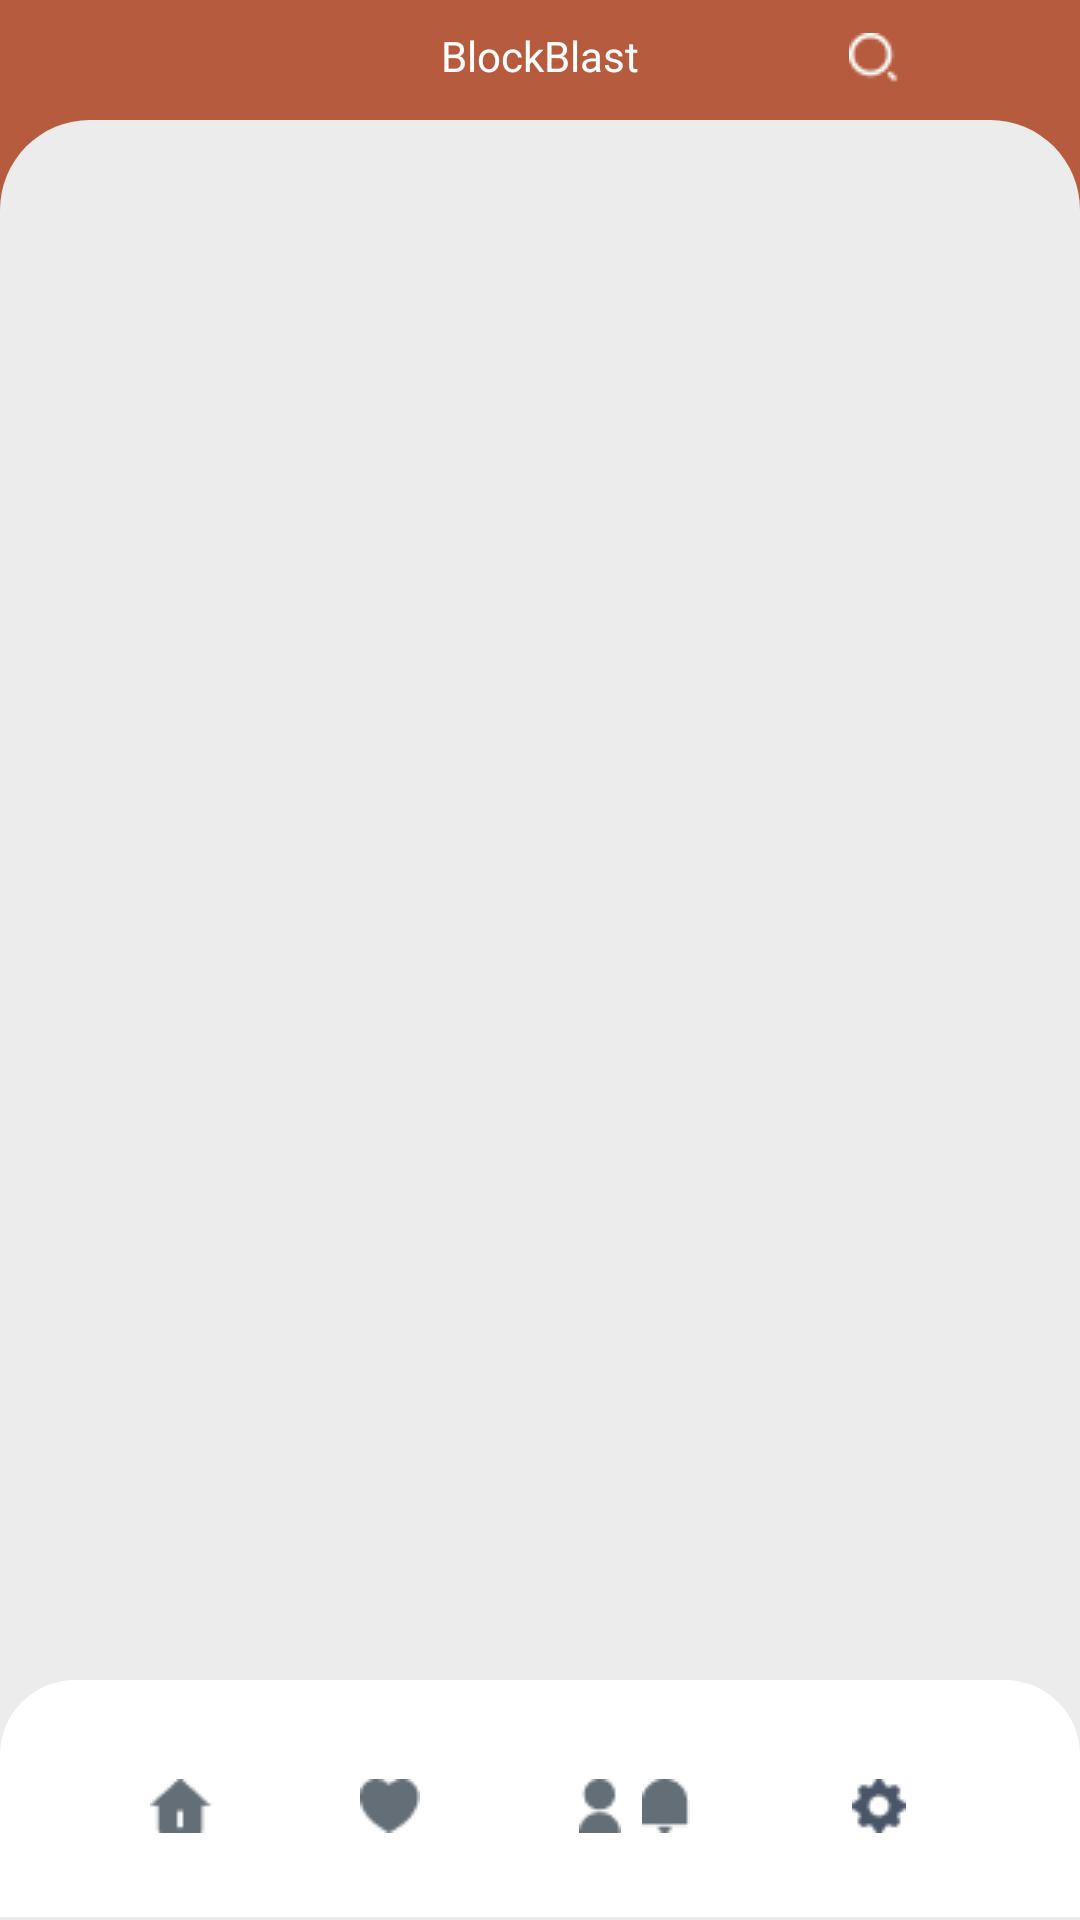

Icon bounding boxes for this 1080w x 1920h phone screenshot, format (x1, y1, x2, y2):
heart: (360, 1779, 420, 1833)
home: (150, 1779, 211, 1833)
notification: (642, 1779, 688, 1833)
profile: (579, 1779, 621, 1833)
search: (849, 33, 898, 82)
setting: (852, 1779, 906, 1833)
